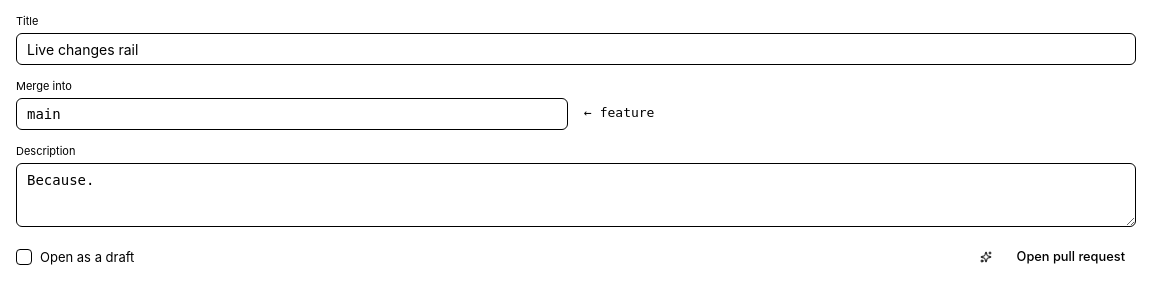
PullRequestForm › explains opening as a draft through the tooltip the rest of the feature uses
Focus the checkbox named "draft" at (24,257), box [16,249,32,265]
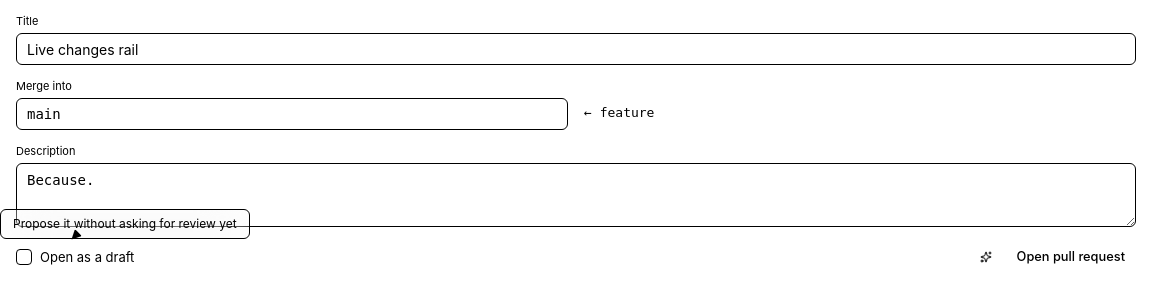
Expected: the tooltip reads "Propose it without asking for review yet", [13,216,237,231]
